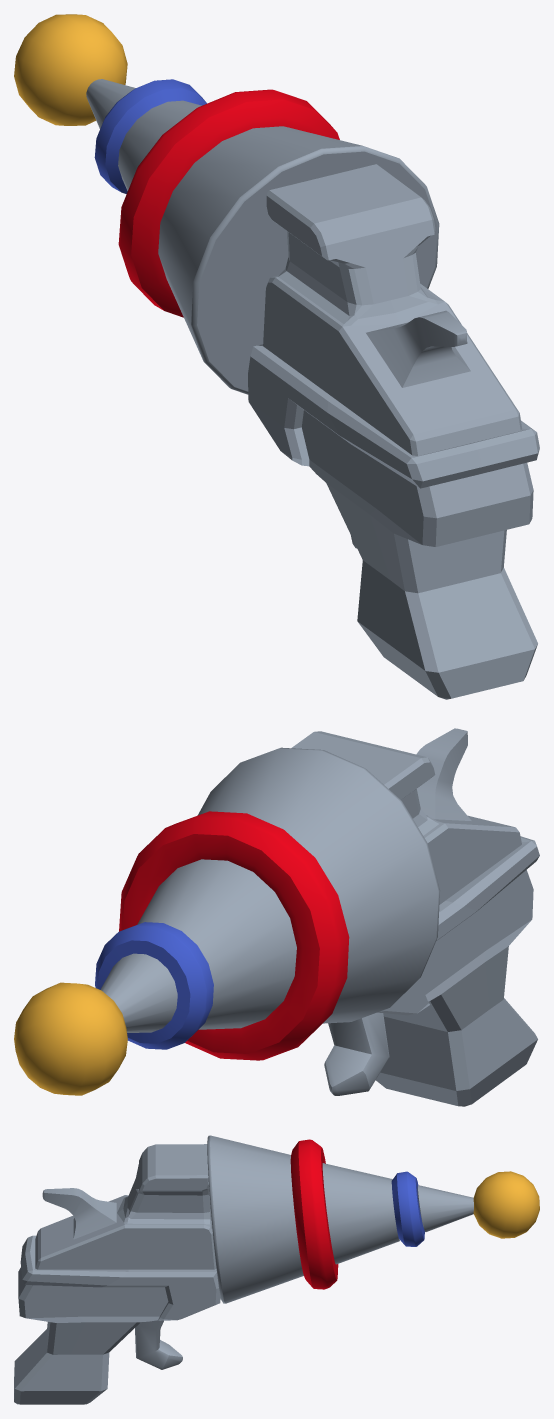
Rendered from pestic.fbx.
3 renders of one model, top to bottom at view 1: azimuth 30°, elevation 25°; view 2: azimuth 150°, elevation 25°; view 3: azimuth 270°, elevation 25°, orthographic. The views are drawn at different scales.
Parts seen in each view (by area): view 1: Cube, Cylinder, Sphere, Cube.001; view 2: Cylinder, Cube, Sphere, Cube.002, Cube.001; view 3: Cube, Cylinder, Sphere, Cube.001, Cube.002.
Part boxes in pixels (box(x1,y1,x2,y2)): Cube: box(248, 164, 539, 699); Cylinder: box(86, 79, 439, 394); Sphere: box(14, 14, 127, 125); Cube.001: box(366, 310, 470, 387); Cylinder: box(95, 747, 440, 1060); Cube: box(291, 731, 539, 1106); Sphere: box(14, 982, 127, 1095); Cube.002: box(324, 1012, 389, 1095); Cube.001: box(416, 728, 471, 820); Cube: box(14, 1144, 220, 1404); Cylinder: box(207, 1135, 473, 1303); Sphere: box(473, 1171, 539, 1238); Cube.001: box(42, 1188, 116, 1239); Cube.002: box(135, 1320, 182, 1369).
Size of the model in its own units: 57.4 by 96.84 by 181.
